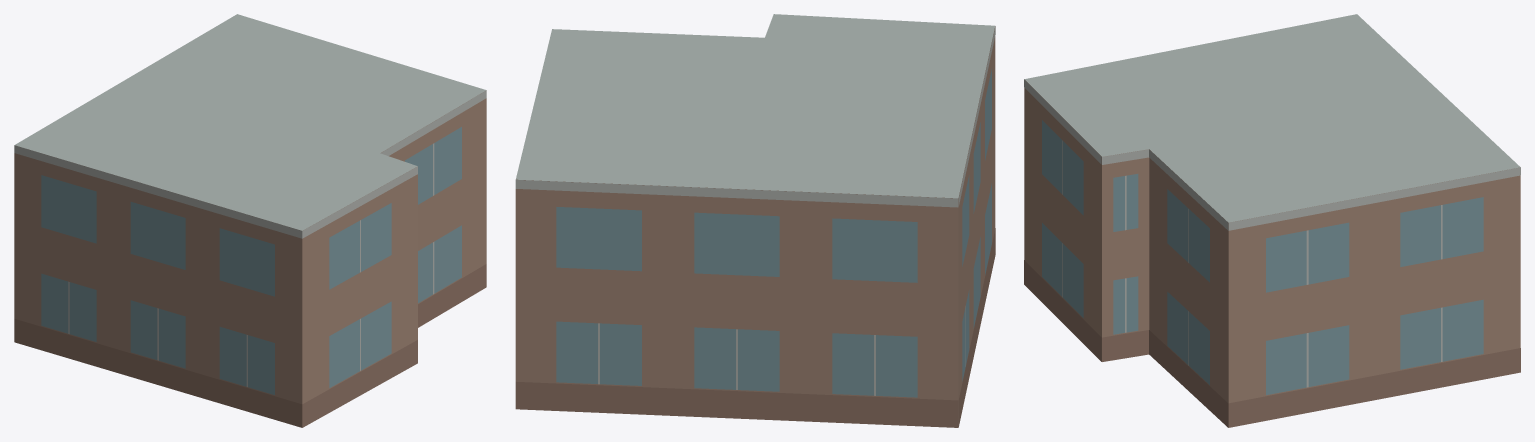
Rendered from survey-upis-32617344.glb.
The picture shows the model from 3 angles, left to right: view 1: azimuth 30°, elevation 25°; view 2: azimuth 150°, elevation 25°; view 3: azimuth 270°, elevation 25°; orthographic projection. The views are drawn at different scales.
Visible parts, largest first — view 1: survey-upis-32617344.tmp; view 2: survey-upis-32617344.tmp; view 3: survey-upis-32617344.tmp.
Boxes of the visible parts, left/top/right/bottom form: survey-upis-32617344.tmp: left=14, top=14, right=486, bottom=427; survey-upis-32617344.tmp: left=515, top=14, right=995, bottom=427; survey-upis-32617344.tmp: left=1024, top=14, right=1520, bottom=427.
Size of the model in its own units: 13.31 by 6.1 by 13.39.
